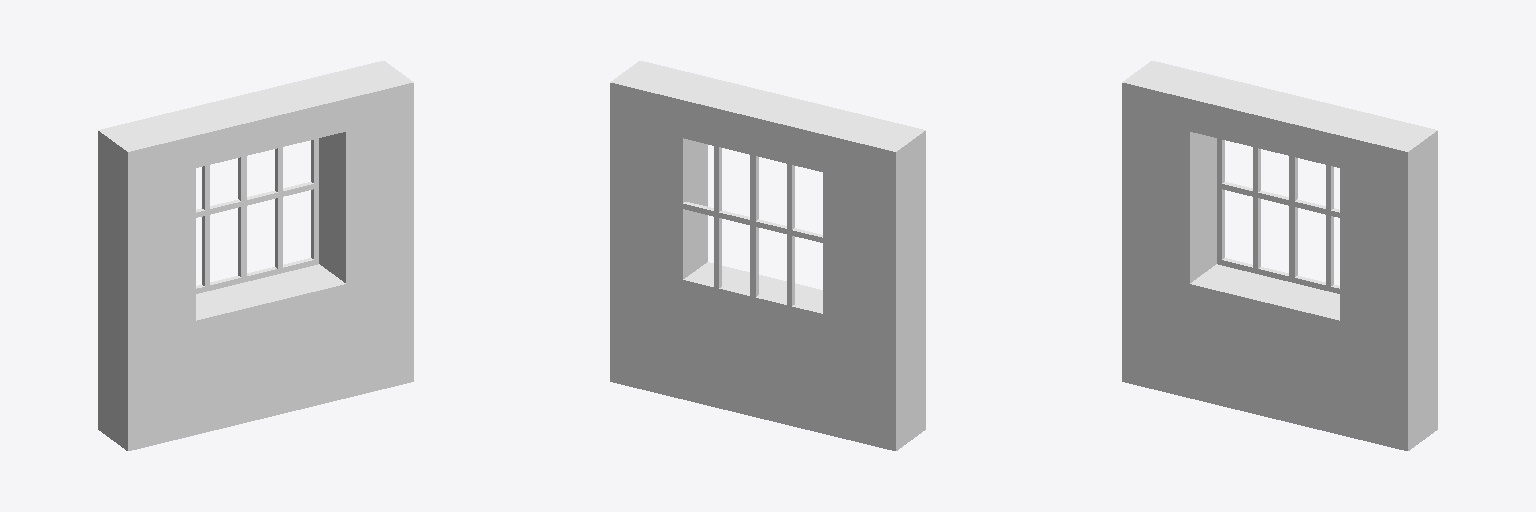
File: Wall_Window_2.obj
3 views of the same model, side by side, from view 1: azimuth 30°, elevation 25°; view 2: azimuth 150°, elevation 25°; view 3: azimuth 330°, elevation 25° (orthographic).
Visible parts, largest first — view 1: ObjObject; view 2: ObjObject; view 3: ObjObject.
Part boxes in pixels (x1,y1,x2,y2): ObjObject: (98, 61, 413, 450); ObjObject: (610, 61, 925, 450); ObjObject: (1122, 61, 1437, 450).
Size of the model in its own units: 5.5 by 5.5 by 1.